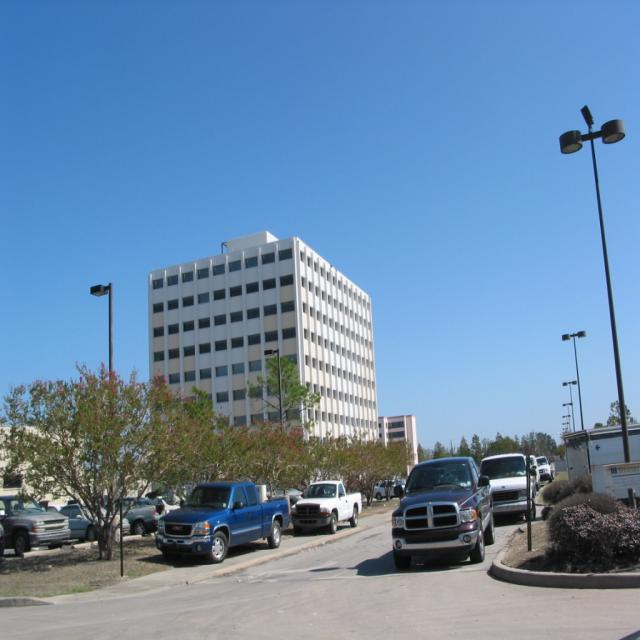car: (384, 460, 493, 572)
